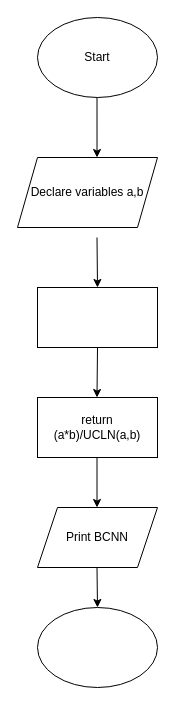
Image size: 175x705. Some labels were removed from this diagram. Here are the shapes that lost their labels. From the top down, the centre of each, then its label:
the point at 97,317: Call BSCNN(a,b)
the point at 97,647: End
